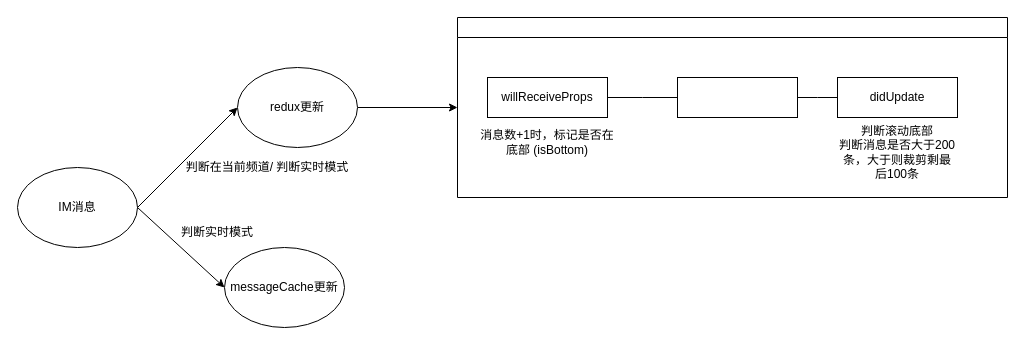
Image size: 1025x345. Some labels were removed from this diagram. Each missing label, with the box of its shape:
render: (676, 76, 798, 118)
TextRoom: (456, 16, 1008, 198)
